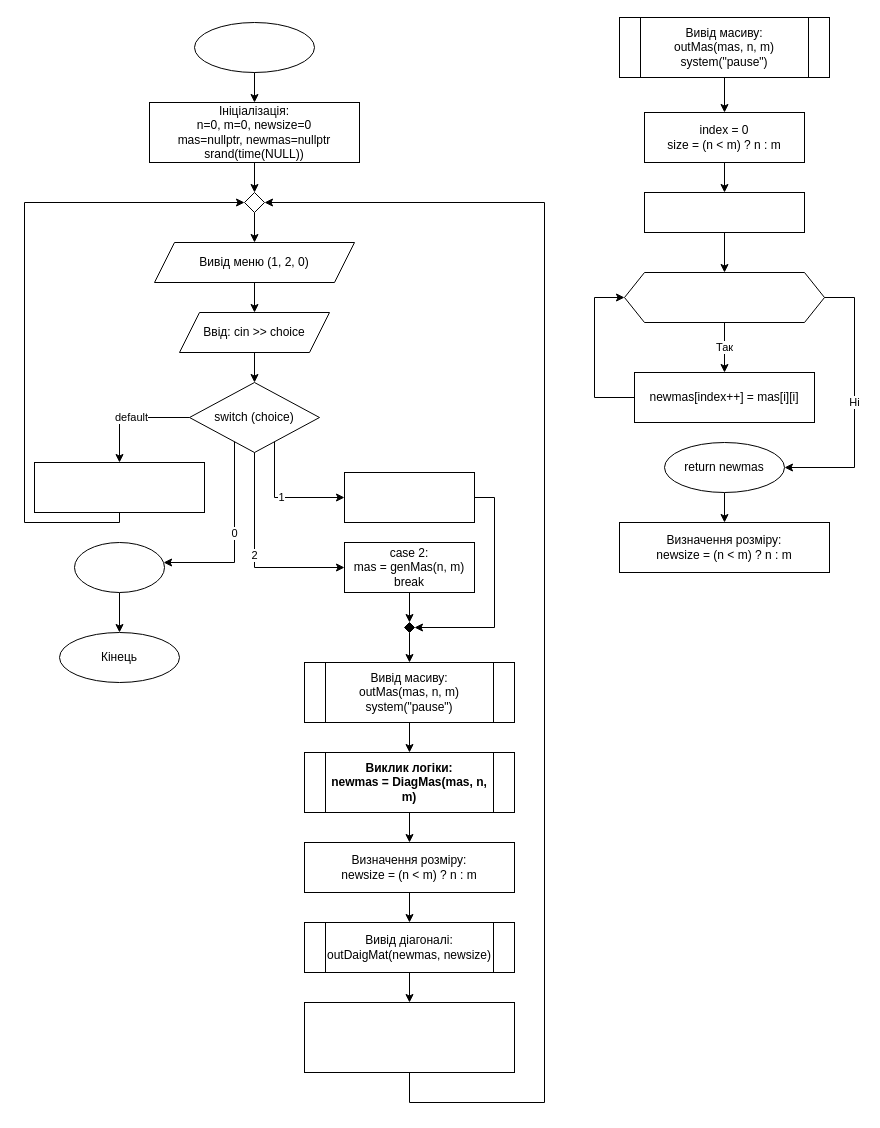
Image size: 880x1128. Some labels were removed from this diagram. Each missing label, with the box of its shape:
case 1: mas = inpMas(n, m) break: (344, 472, 474, 522)
default: Вивід "Помилка" continue: (34, 462, 204, 512)
for (int i = 0; i < size; ++i): (624, 272, 824, 322)
newmas = new int[size]: (644, 192, 804, 232)
return 0: (74, 542, 164, 592)
Очищення пам'яті: delMas(mas, n) delMat(newmas) system("pause"): (304, 1002, 514, 1072)
Початок: (194, 22, 314, 72)
